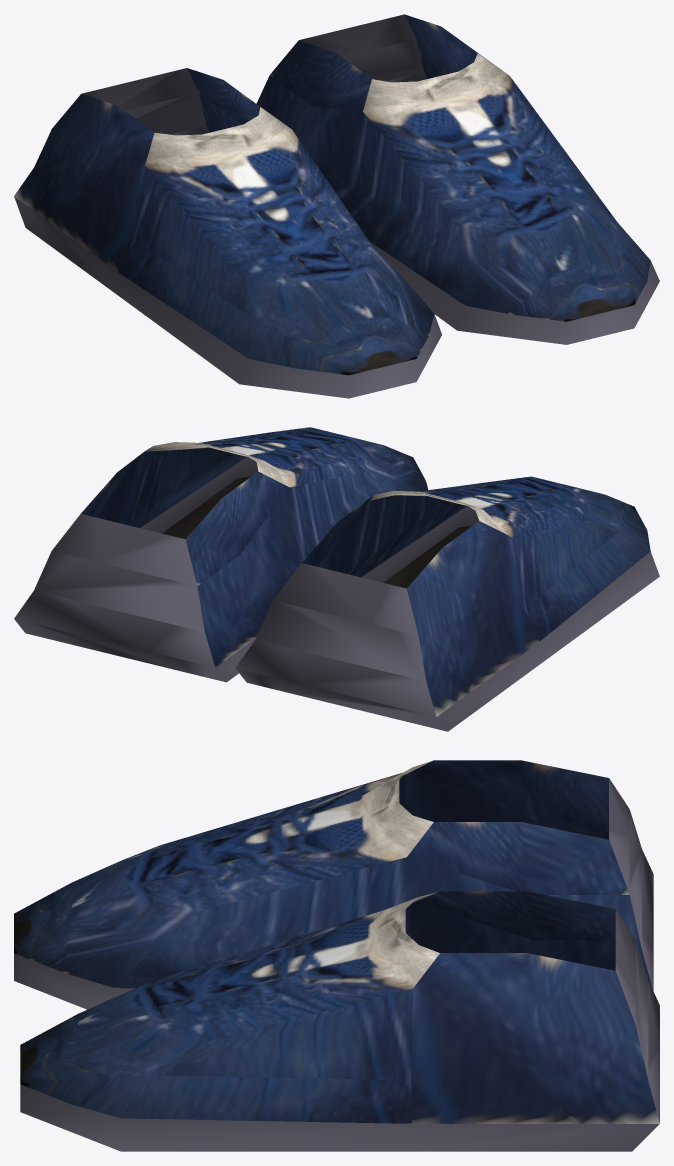
File: Shoes.fbx
3 renders of one model, top to bottom at view 1: azimuth 30°, elevation 25°; view 2: azimuth 150°, elevation 25°; view 3: azimuth 270°, elevation 25°, orthographic. The views are drawn at different scales.
Parts seen in each view (by area): view 1: Plane.001, Plane; view 2: Plane.001, Plane; view 3: Plane, Plane.001.
Boxes of the visible parts, box(x1,y1,x2,y2) form: Plane.001: box(14, 68, 441, 398); Plane: box(256, 14, 659, 344); Plane.001: box(235, 476, 659, 731); Plane: box(14, 427, 428, 682); Plane: box(20, 891, 659, 1151); Plane.001: box(14, 760, 653, 1009).
Size of the model in its own units: 94.06 by 30.74 by 104.
